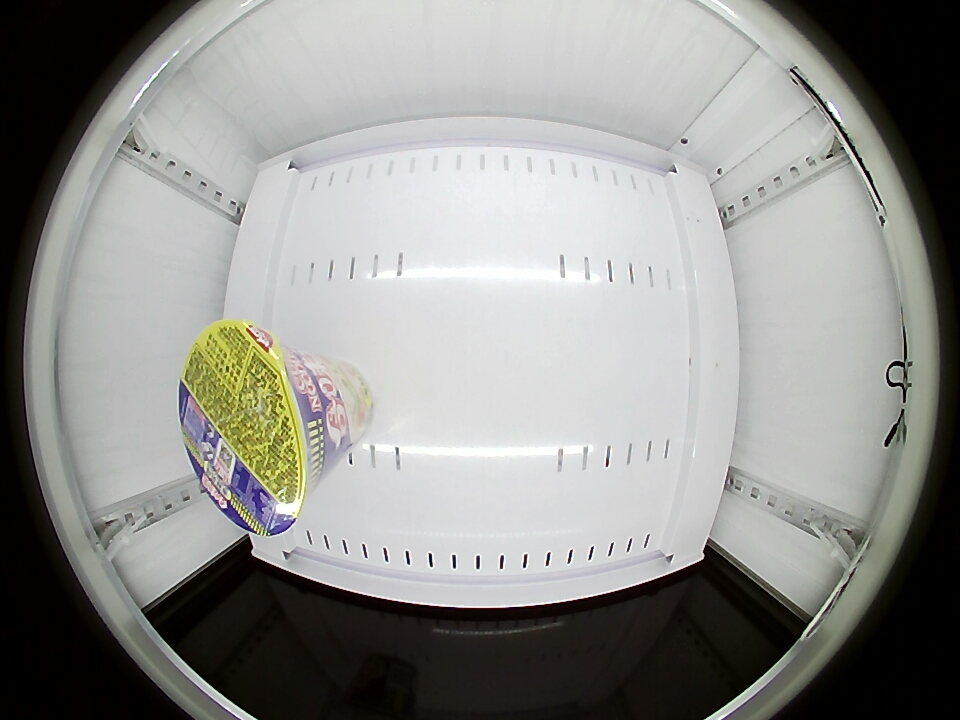heweidao: (179, 319, 325, 538)
